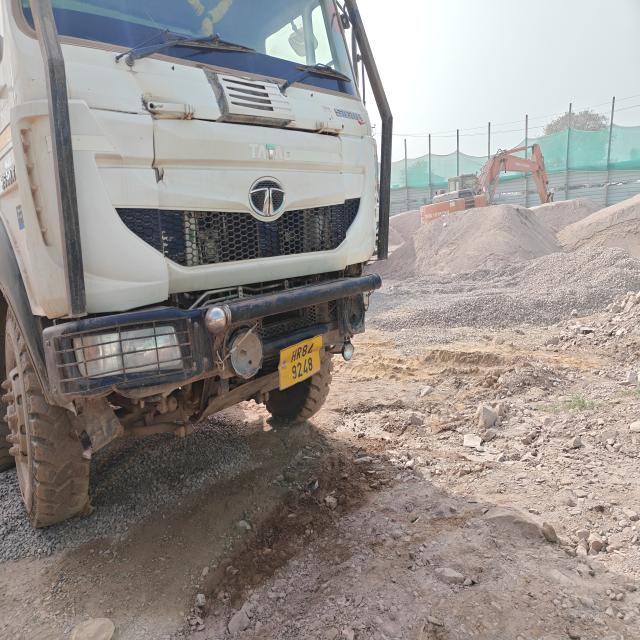license_plate: (279, 336, 322, 390)
